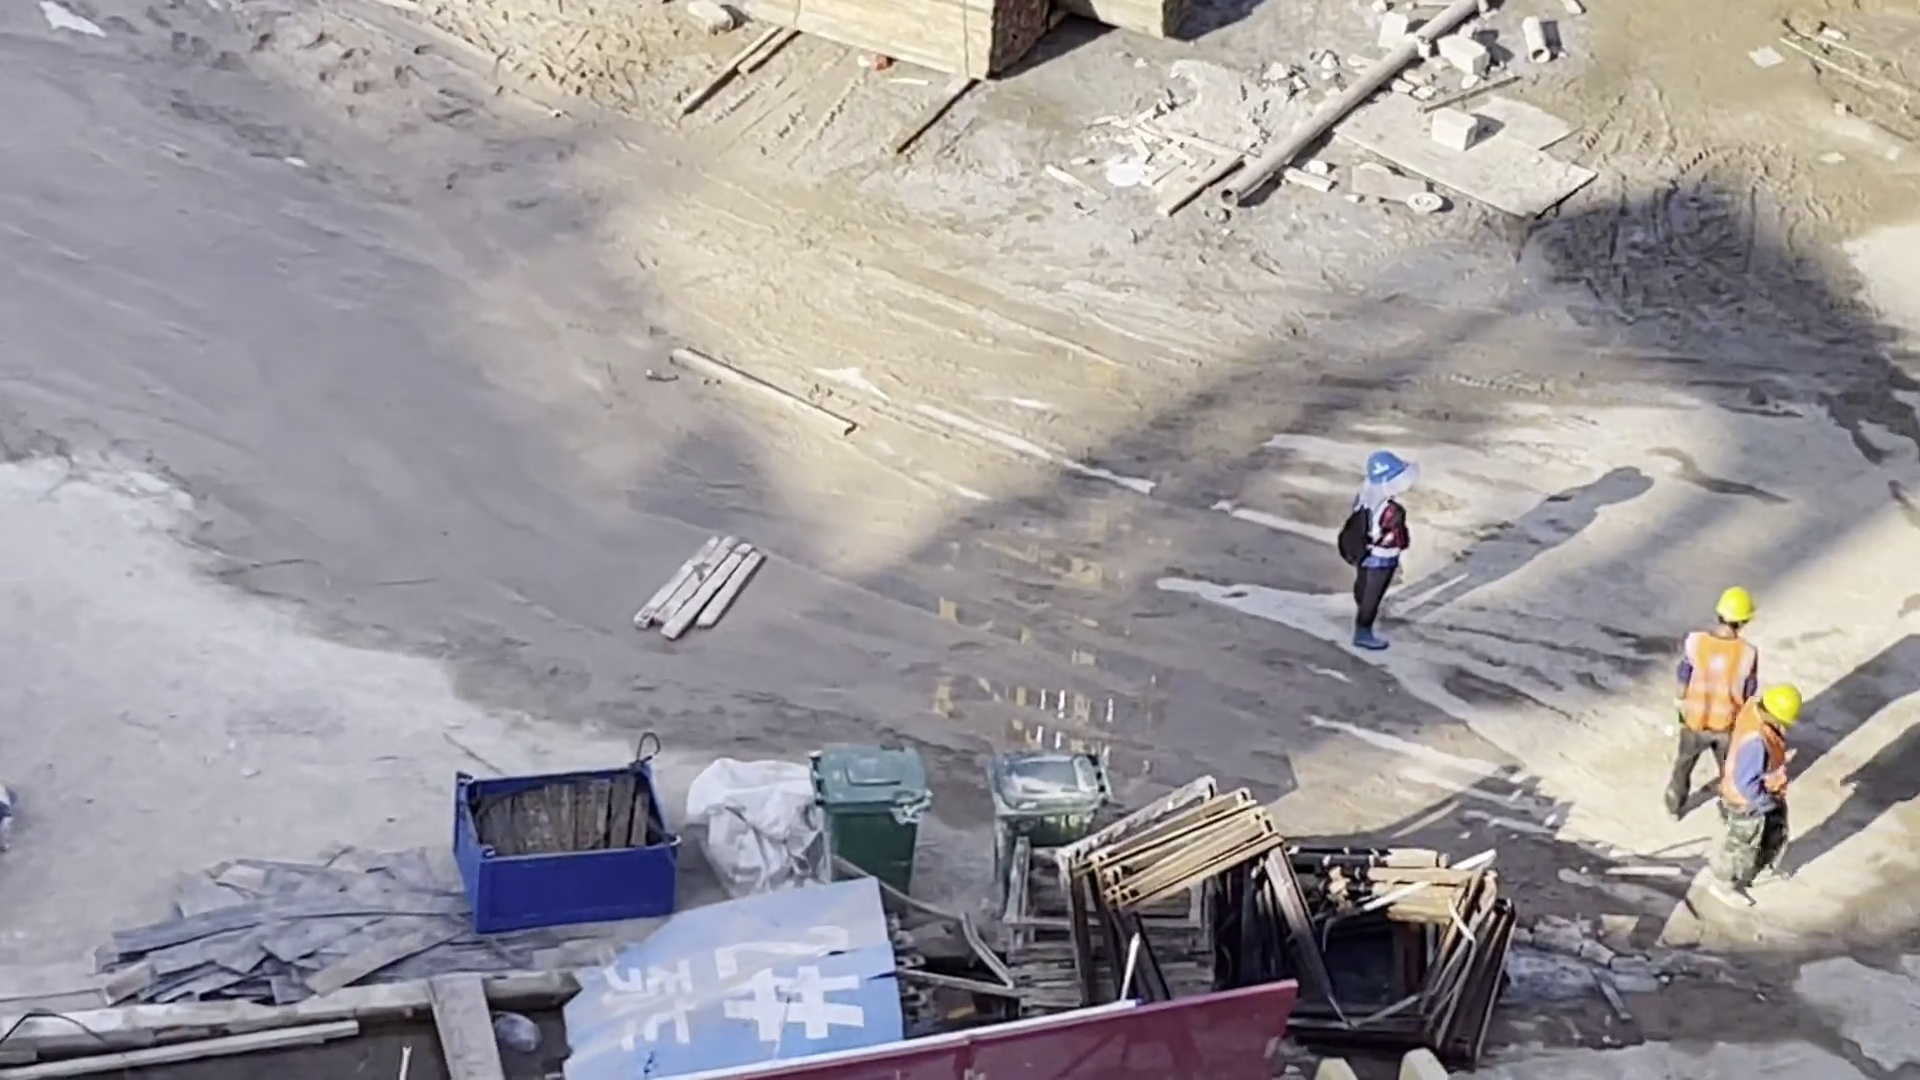helmet: (1763, 681, 1802, 722), (1369, 451, 1408, 485), (1720, 587, 1755, 623)
person: (1671, 588, 1752, 819), (1729, 685, 1790, 907), (1350, 454, 1415, 650)
vest: (1686, 633, 1755, 729), (1723, 704, 1790, 801), (1365, 500, 1405, 570)
